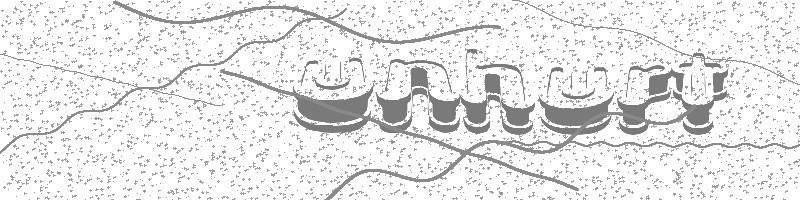h: (463, 50, 537, 135)
n: (377, 59, 461, 133)
r: (619, 65, 673, 134)
t: (674, 53, 724, 134)
u: (295, 59, 373, 132), (540, 67, 615, 134)
